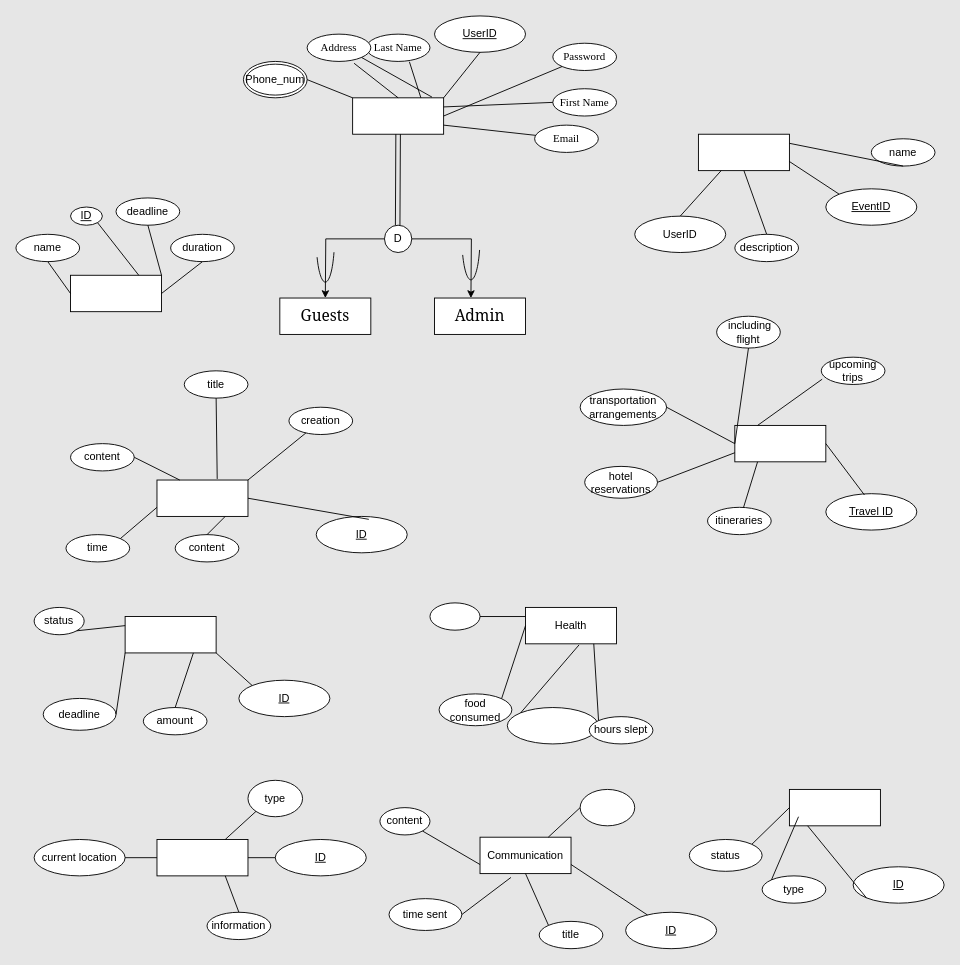
Some shapes in this 960 by 965 pixel diagram are drawn without their labels. The centre of each missing label's shape, as x and y in pixels:
Calendar: point (743, 152)
Device: point (202, 857)
Finance: point (170, 634)
Health ID: point (552, 725)
Notes: point (202, 497)
Room: point (834, 807)
Tasks: point (116, 293)
the date: point (454, 616)
time received: point (607, 807)
Travel: point (780, 443)
Users: point (398, 115)
